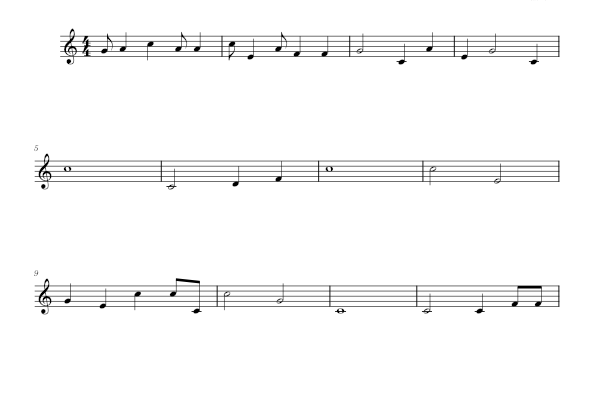Treble Clef: (35, 150, 55, 192), (60, 25, 79, 69), (35, 277, 55, 318)
